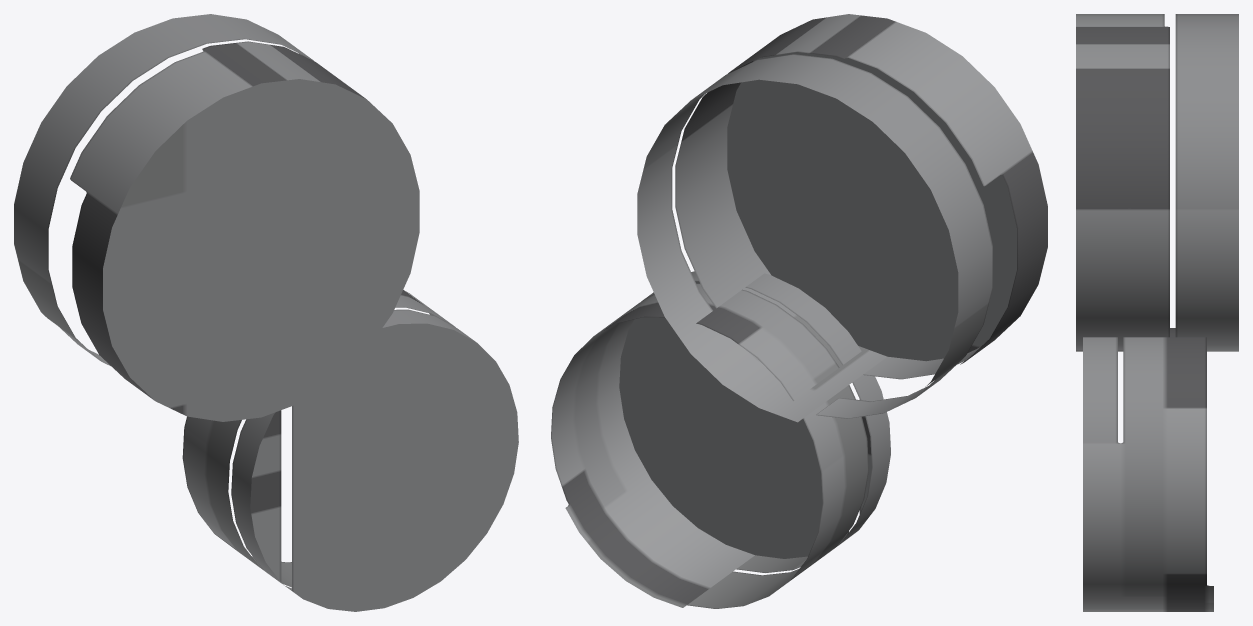
The picture shows the model from 3 angles, left to right: view 1: azimuth 30°, elevation 25°; view 2: azimuth 150°, elevation 25°; view 3: azimuth 270°, elevation 25°; orthographic projection. The views are drawn at different scales.
Bounding box in the file's own units: 0.7463 × 0.9488 × 0.2732.
